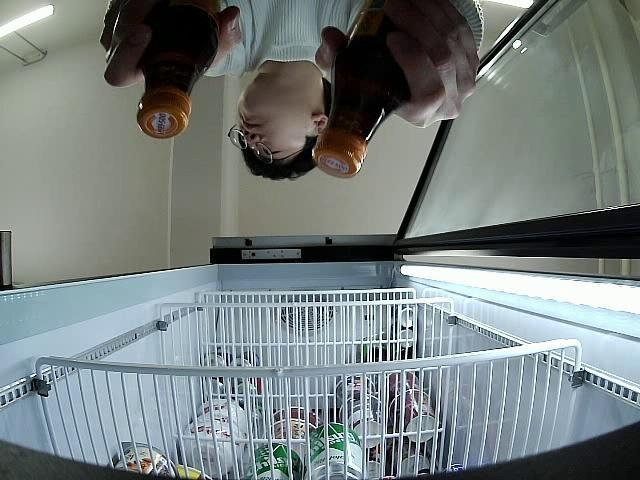17_vita500: (310, 0, 434, 179), (137, 0, 216, 139)
